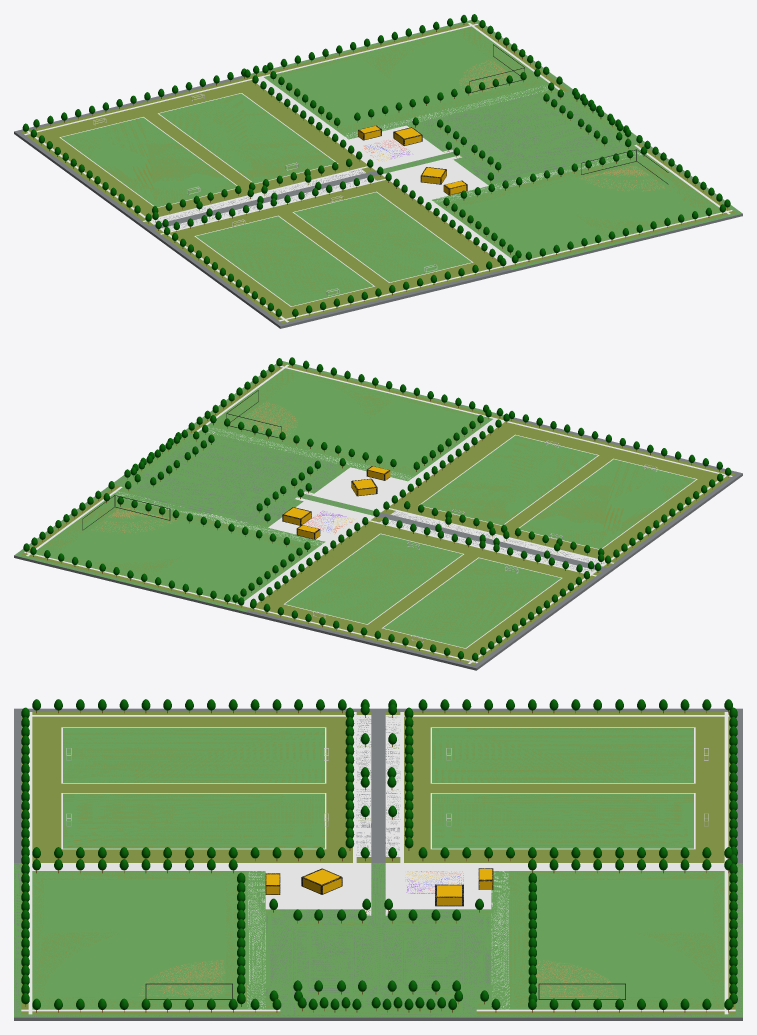
The model's file is 900_sports_complex.dae.
The picture shows the model from 3 angles, top to bottom: view 1: azimuth 30°, elevation 25°; view 2: azimuth 150°, elevation 25°; view 3: azimuth 270°, elevation 25°; orthographic projection. The views are drawn at different scales.
Visible parts, largest first — view 1: Component_13 (×15), Component_14 (×8), Component_9 (×7); view 2: Component_13 (×15), Component_14 (×7), Component_9 (×8); view 3: Component_13 (×16), Component_14 (×9), Component_9 (×9).
Boxes of the visible parts, box(x1,y1,x2,y2) form: Component_13 (×15): box(14, 76, 511, 328); Component_14 (×8): box(382, 117, 742, 272); Component_9 (×7): box(249, 19, 607, 171); Component_13 (×15): box(245, 417, 742, 670); Component_14 (×7): box(154, 361, 504, 512); Component_9 (×8): box(14, 458, 374, 614); Component_13 (×16): box(14, 708, 742, 862); Component_14 (×9): box(14, 863, 378, 1020); Component_9 (×9): box(378, 863, 742, 1020).
Bounding box in the file's own units: 195 × 195 × 5.85.
